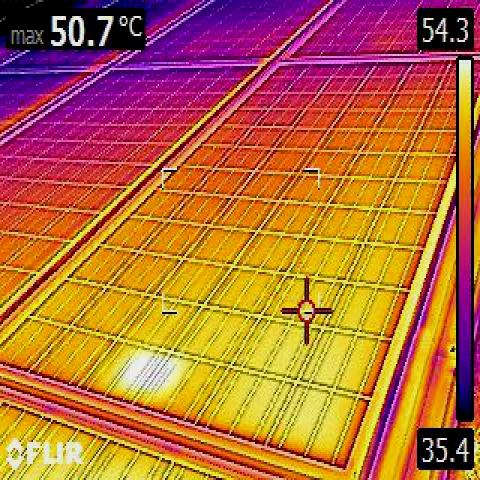fault: (130, 350, 180, 402)
